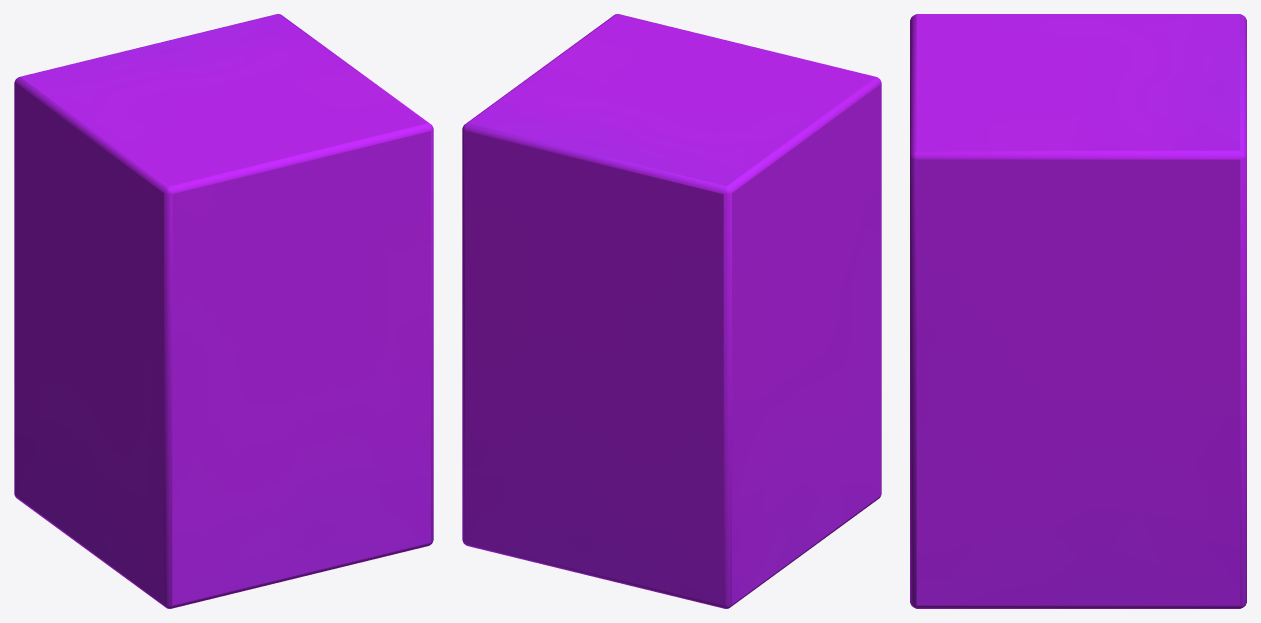
The model's file is CuboidPink.fbx.
The picture shows the model from 3 angles, left to right: view 1: azimuth 30°, elevation 25°; view 2: azimuth 150°, elevation 25°; view 3: azimuth 270°, elevation 25°; orthographic projection. The views are drawn at different scales.
Parts seen in each view (by area): view 1: Cube; view 2: Cube; view 3: Cube.
Part boxes in pixels (bbox=[...]): Cube: bbox=[14, 14, 433, 608]; Cube: bbox=[462, 14, 881, 608]; Cube: bbox=[910, 14, 1246, 608].
Bounding box in the file's own units: 2 × 3 × 2.
